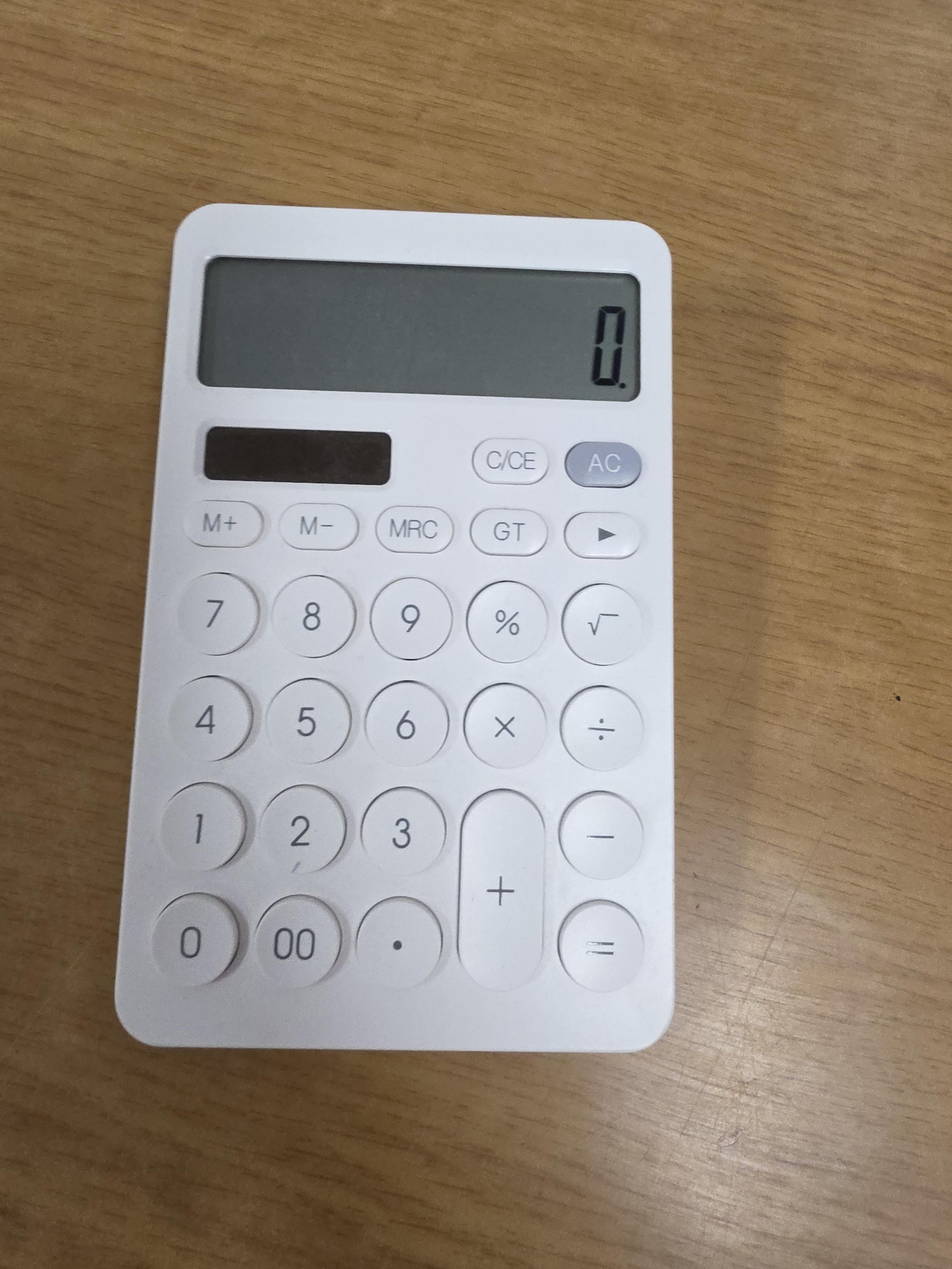calculator: (115, 203, 678, 1054)
